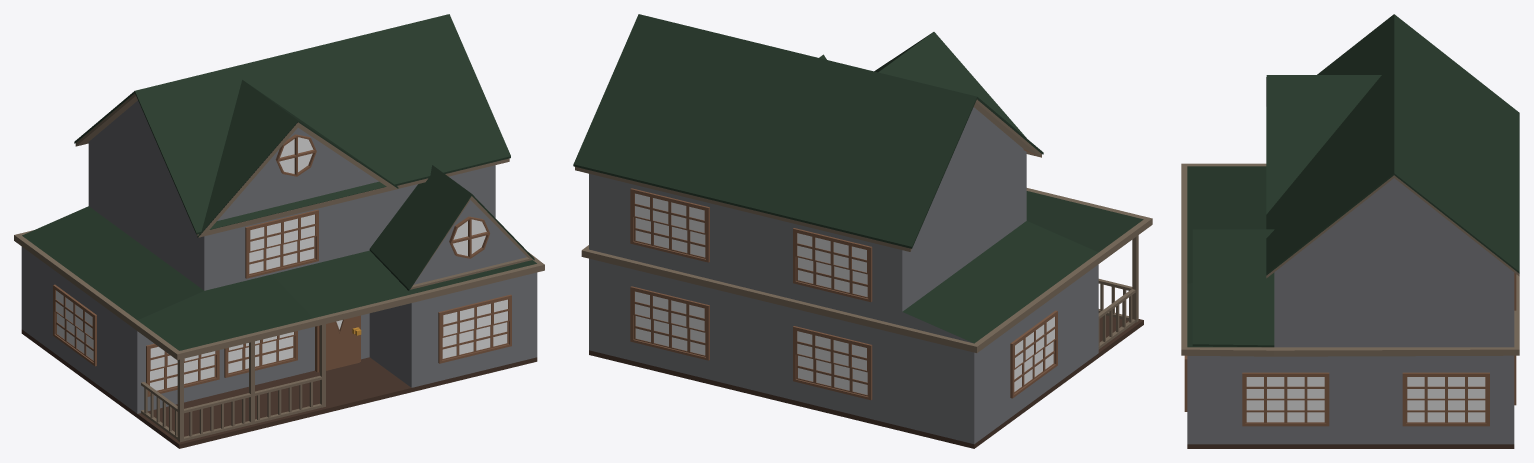
File: SM_house_03_B.gltf
3 views of the same model, side by side, from view 1: azimuth 30°, elevation 25°; view 2: azimuth 150°, elevation 25°; view 3: azimuth 270°, elevation 25° (orthographic). The views are drawn at different scales.
Parts seen in each view (by area): view 1: SM_house_03_B; view 2: SM_house_03_B; view 3: SM_house_03_B.
Part boxes in pixels (bbox=[...]): SM_house_03_B: bbox=[14, 14, 544, 448]; SM_house_03_B: bbox=[573, 14, 1152, 448]; SM_house_03_B: bbox=[1181, 14, 1519, 448].
Size of the model in its own units: 4.36 by 3.02 by 3.29.
